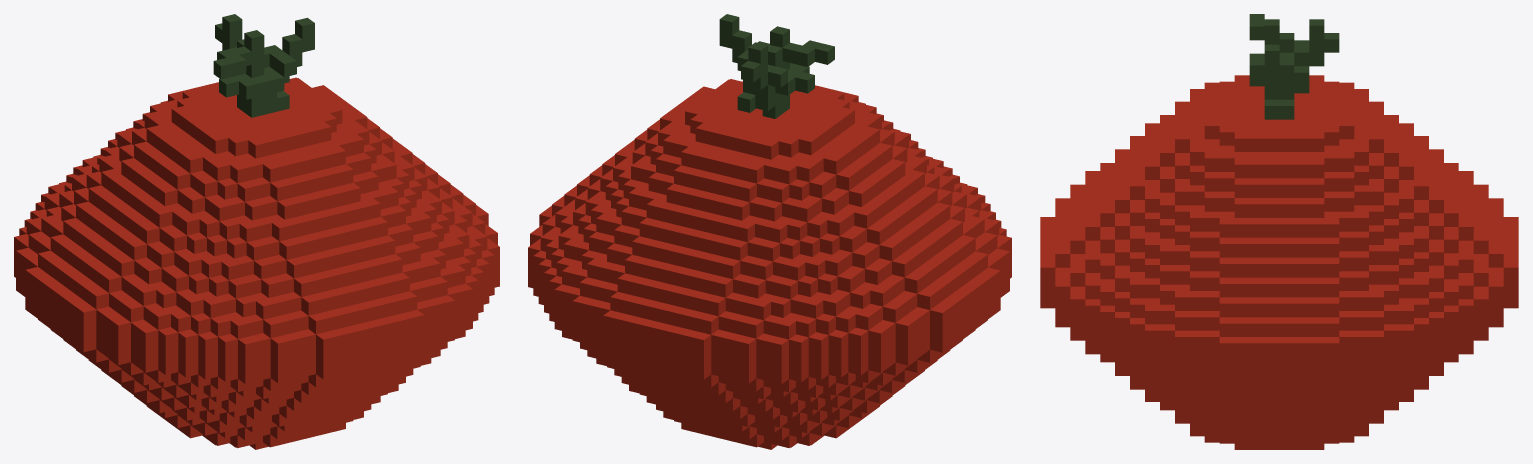
Rendered from Tomatoe.obj.
The picture shows the model from 3 angles, left to right: view 1: azimuth 30°, elevation 25°; view 2: azimuth 150°, elevation 25°; view 3: azimuth 270°, elevation 25°; orthographic projection. The views are drawn at different scales.
Size of the model in its own units: 3.2 by 2.9 by 3.2.
Materials: 1 (1 with a texture image).
